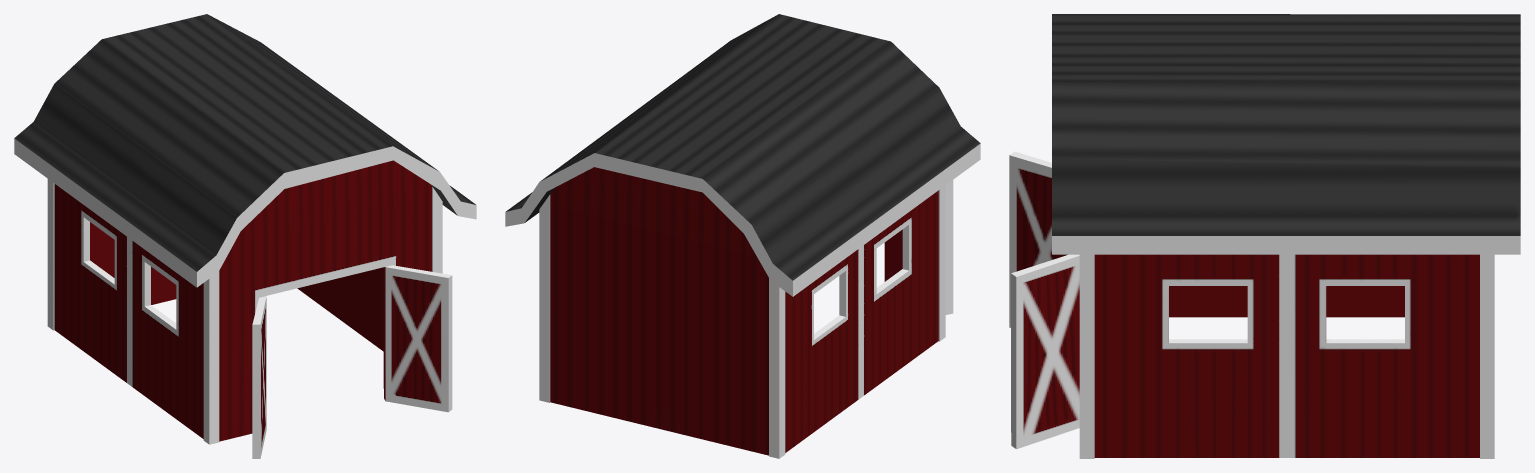
Rendered from barn.fbx.
3 views of the same model, side by side, from view 1: azimuth 30°, elevation 25°; view 2: azimuth 150°, elevation 25°; view 3: azimuth 270°, elevation 25° (orthographic). The views are drawn at different scales.
Parts seen in each view (by area): view 1: Cube.008; view 2: Cube.008; view 3: Cube.008.
Part boxes in pixels (bbox=[...]): Cube.008: bbox=[14, 14, 476, 458]; Cube.008: bbox=[505, 14, 980, 458]; Cube.008: bbox=[1009, 14, 1520, 458].
Size of the model in its own units: 2776 by 2505 by 3424.
